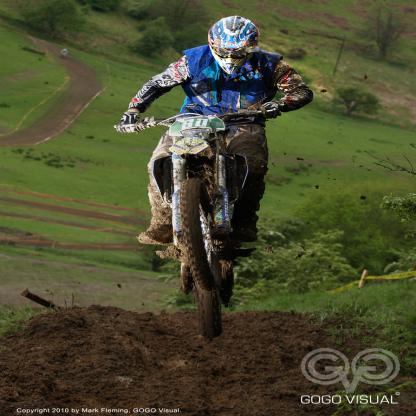Helmet: (204, 15, 262, 63)
